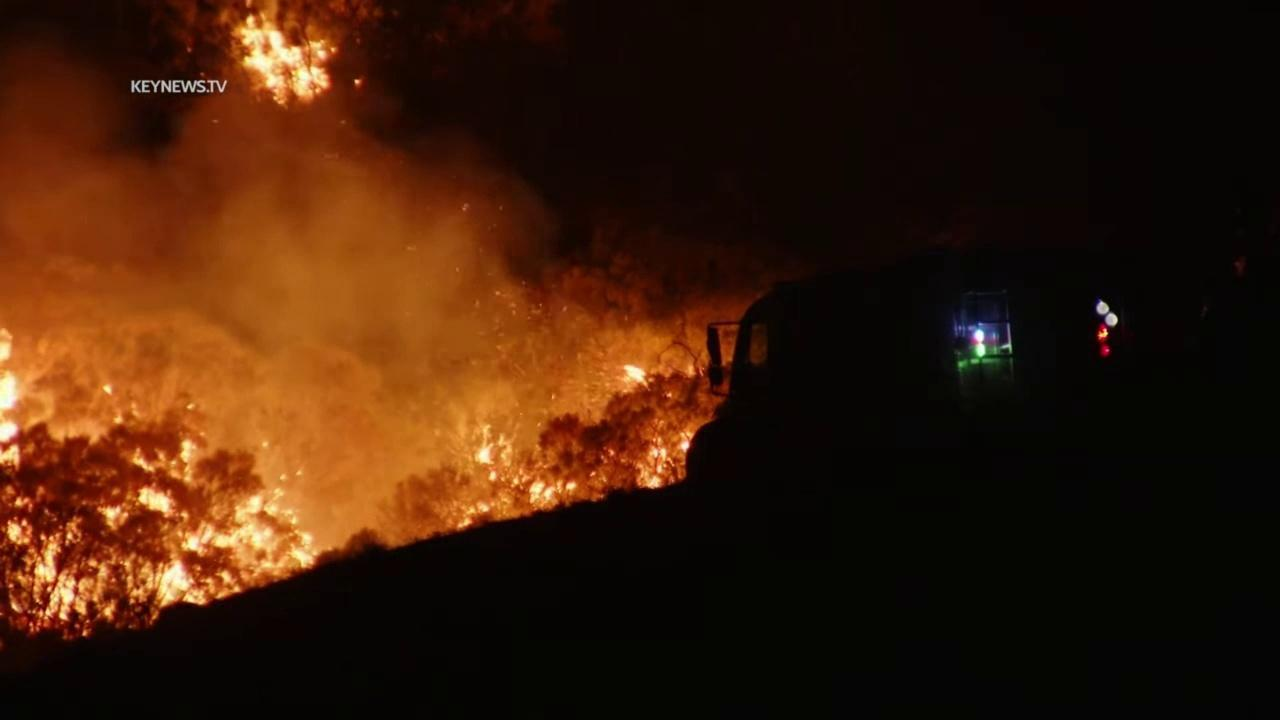fire: (0, 326, 321, 642), (451, 421, 579, 535), (227, 10, 345, 114), (633, 425, 692, 490), (625, 363, 655, 391), (681, 362, 711, 384)
smoke: (2, 0, 606, 551)
